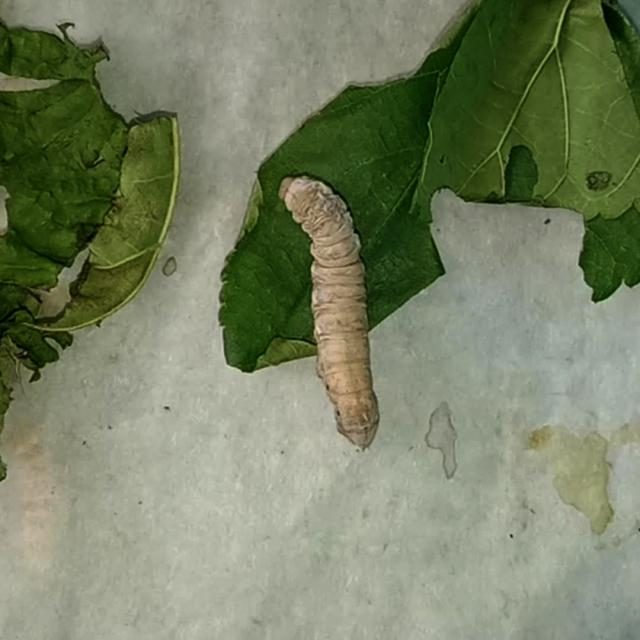Grasserie: (262, 168, 409, 462)
